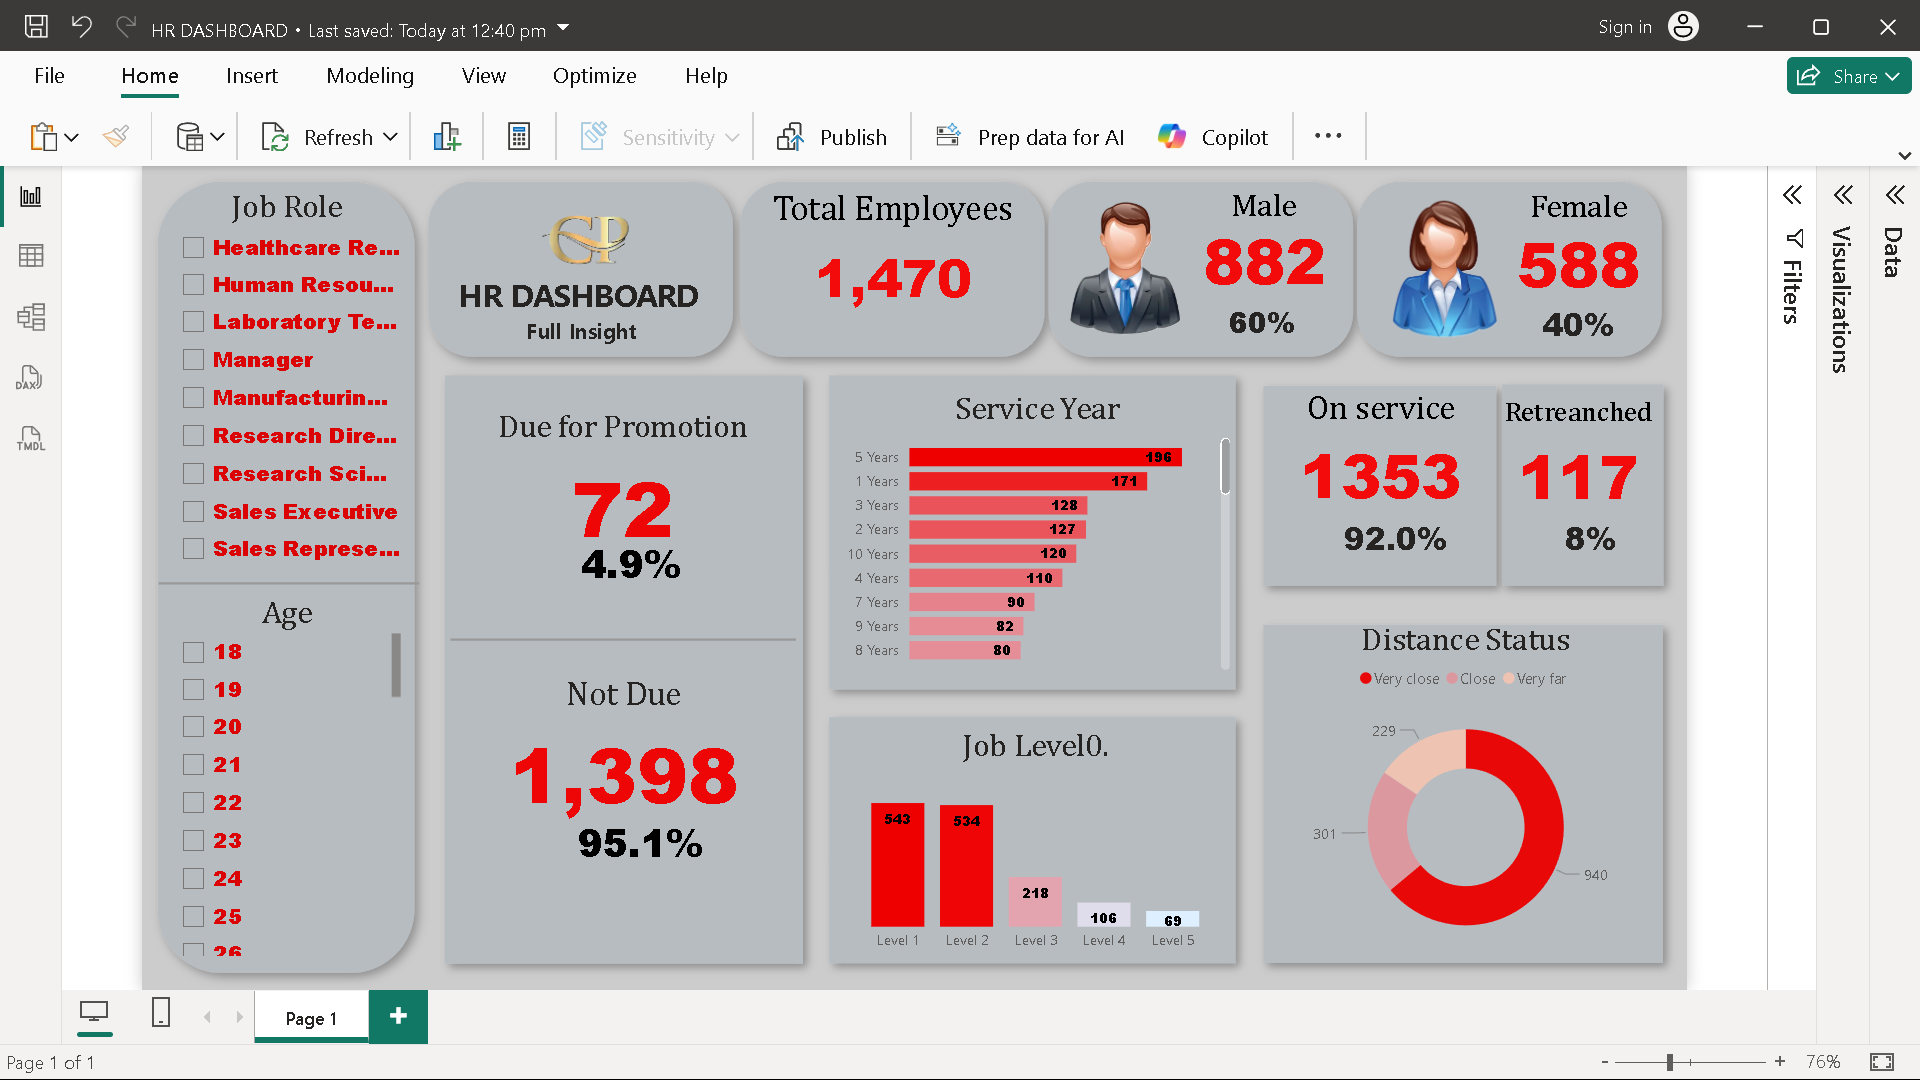

The dashboard page shown, as its layout file describes it:
{"tool":"powerbi","page":{"name":"Page 1","canvas":[1350,720],"ordinal":0},"visuals":[{"type":"shape","box":[0,0,251.8,718.9],"z":0},{"type":"shape","box":[237.1,-0.3,293.4,180.3],"z":1000},{"type":"shape","box":[509.4,-0.3,293.4,180.3],"z":2000},{"type":"shape","box":[777.9,-0.3,293.4,180.3],"z":3000},{"type":"shape","box":[1048.3,-0.3,293.4,180.3],"z":4000},{"type":"shape","box":[252.4,170.4,337.5,538.9],"z":5000},{"type":"shape","box":[588,170.4,379.7,299.2],"z":6000},{"type":"shape","box":[588,469.6,379.7,239.7],"z":7000},{"type":"shape","box":[967.7,389.1,374,320.3],"z":8000},{"type":"shape","box":[967.7,180,228.2,199.4],"z":9000},{"type":"shape","box":[1176.4,179,165.5,200.7],"z":10000},{"type":"textbox","box":[272.1,90,224.1,78],"z":11000},{"type":"card","title":"Total Employees","fields":{"Values":["Table.Total Emp"]},"box":[539,21.2,234.4,118],"z":12000},{"type":"card","title":"Male","fields":{"Values":["Table.Male"]},"box":[920.5,19.7,121,93.4],"z":13000},{"type":"card","title":"Female","fields":{"Values":["Table.Female"]},"box":[1196.3,21.2,118,95],"z":14000},{"type":"card","title":"Male","fields":{"Values":["Table.%Male"]},"box":[929.7,113.1,99.6,46],"z":15000},{"type":"card","title":"Male","fields":{"Values":["Table.%Female"]},"box":[1205.5,116.2,99.6,46],"z":16000},{"type":"image","box":[793.4,16.6,131.8,142.5],"z":17000},{"type":"image","box":[1072.2,19.7,133.3,139.4],"z":18000},{"type":"card","title":"Due for Promotion","fields":{"Values":["Table.Due for Promotion"]},"box":[269.6,213.2,300.3,136.4],"z":19000},{"type":"card","title":"Due for Promotion","fields":{"Values":["Table.%Due for promotion"]},"box":[376.8,320.4,101.1,55.1],"z":20000},{"type":"card","title":"Not Due","fields":{"Values":["Table.Not Due"]},"box":[270.9,445.1,300.3,133.3],"z":21000},{"type":"card","title":"Due for Promotion","fields":{"Values":["Table.%Not Due"]},"box":[375.1,563.1,121,55.2],"z":22000},{"type":"shape","box":[269.4,388.9,301.8,50.6],"z":23000},{"type":"barChart","title":"Service Year","fields":{"Category":["HR Analytics Data.Service Year"],"Y":["Table.Total Emp"]},"box":[609.5,197.4,346.3,248.2],"z":24000},{"type":"columnChart","title":"Job Level0.","fields":{"Category":["HR Analytics Data.Job Level"],"Y":["Table.Total Emp"]},"box":[608,491.6,346.3,203.8],"z":25000},{"type":"card","title":"On service","fields":{"Values":["Table.On service"]},"box":[980.3,195.9,203.8,114.9],"z":26000},{"type":"card","title":"Male","fields":{"Values":["Table.%Retreanched"]},"box":[1216.2,303.1,99.6,46],"z":27000},{"type":"card","title":"Retreanched","fields":{"Values":["Table.Retreanched"]},"box":[1184.1,202,142.5,108.8],"z":28000},{"type":"card","title":"Male","fields":{"Values":["Table.%On service"]},"box":[1035.4,303.1,121,46],"z":29000},{"type":"donutChart","title":"Distance Status","fields":{"Category":["HR Analytics Data.Distance Status"],"Y":["Table.Total Emp"]},"box":[983.3,399.6,346.2,300.3],"z":30000},{"type":"image","box":[306.1,-0.3,171.6,128.7],"z":31000},{"type":"slicer","title":"Job Role","fields":{"Values":["HR Analytics Data.JobRole"]},"box":[22.6,21,208.5,337.7],"z":32000},{"type":"slicer","title":"Age","fields":{"Values":["HR Analytics Data.Age"]},"box":[22.6,374.9,208.5,320],"z":32001},{"type":"shape","box":[14.5,339.3,227.8,50.1],"z":32002}]}

Visuals, with their boxes on the page's 1350x720 design canvas (x1, y1, x2, y2). These are canvas units, not pixel positions in the 1920x1080 screenshot, which may show the page scaled, cropped or inside an application window:
shape: 0:0:252:719
shape: 237:0:530:180
shape: 509:0:803:180
shape: 778:0:1071:180
shape: 1048:0:1342:180
shape: 252:170:590:709
shape: 588:170:968:470
shape: 588:470:968:709
shape: 968:389:1342:709
shape: 968:180:1196:379
shape: 1176:179:1342:380
textbox: 272:90:496:168
"Total Employees" card: 539:21:773:139
"Male" card: 920:20:1042:113
"Female" card: 1196:21:1314:116
"Male" card: 930:113:1029:159
"Male" card: 1206:116:1305:162
image: 793:17:925:159
image: 1072:20:1206:159
"Due for Promotion" card: 270:213:570:350
"Due for Promotion" card: 377:320:478:376
"Not Due" card: 271:445:571:578
"Due for Promotion" card: 375:563:496:618
shape: 269:389:571:440
"Service Year" barChart: 610:197:956:446
"Job Level0." columnChart: 608:492:954:695
"On service" card: 980:196:1184:311
"Male" card: 1216:303:1316:349
"Retreanched" card: 1184:202:1327:311
"Male" card: 1035:303:1156:349
"Distance Status" donutChart: 983:400:1330:700
image: 306:0:478:128
"Job Role" slicer: 23:21:231:359
"Age" slicer: 23:375:231:695
shape: 14:339:242:389
